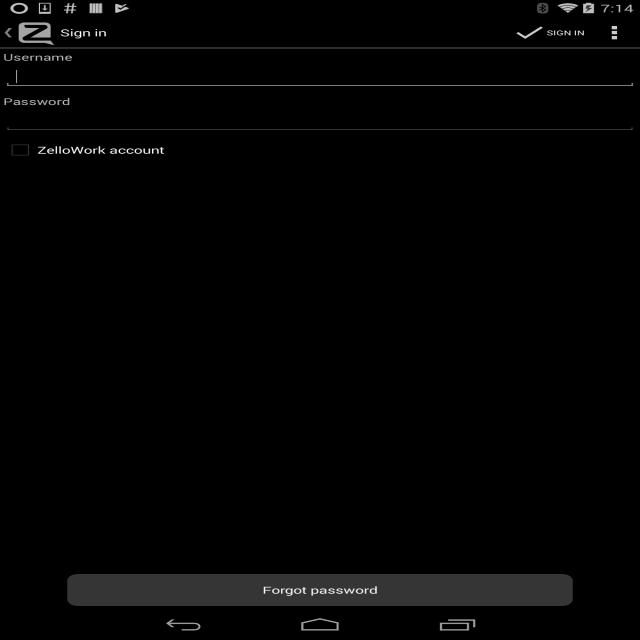Button: (67, 574, 573, 606)
CheckBox: (3, 139, 637, 161)
EditText: (3, 66, 637, 88), (3, 110, 637, 132)
ImageButton: (589, 16, 640, 48)
ImageView: (13, 19, 56, 46), (512, 22, 546, 43), (0, 27, 17, 38)
TextView: (3, 95, 637, 108), (3, 51, 637, 63), (60, 26, 107, 39), (546, 28, 584, 37)
